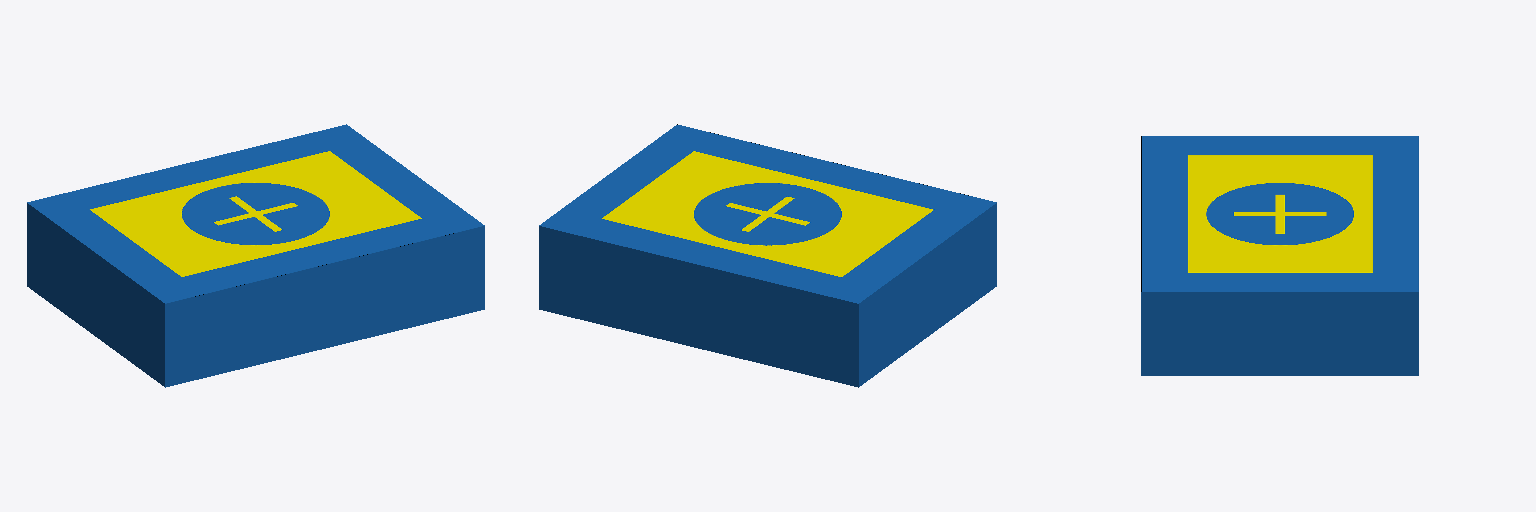
3 renders of one model, left to right at view 1: azimuth 30°, elevation 25°; view 2: azimuth 150°, elevation 25°; view 3: azimuth 270°, elevation 25°, orthographic.
Parts seen in each view (by area): view 1: Cube; view 2: Cube; view 3: Cube.
Part boxes in pixels (bbox=[...]): Cube: bbox=[27, 124, 484, 387]; Cube: bbox=[539, 124, 996, 387]; Cube: bbox=[1141, 136, 1418, 375].
Size of the model in its own units: 2 by 0.5 by 1.5.
1 materials, 1 textured.